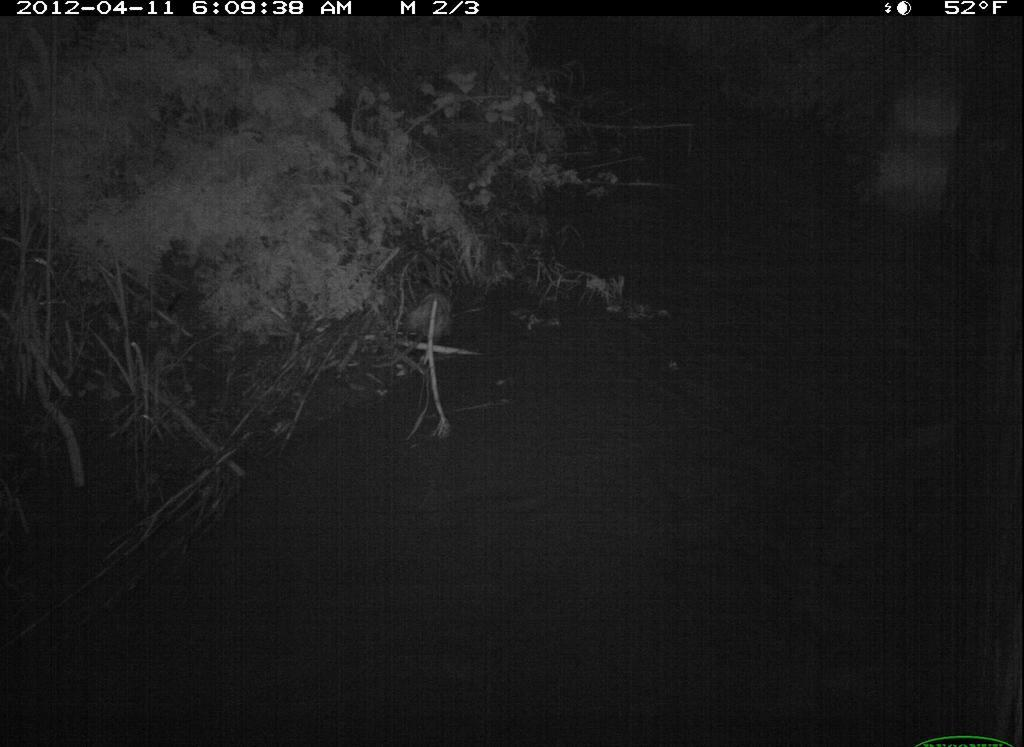opossum: (356, 287, 564, 386)
